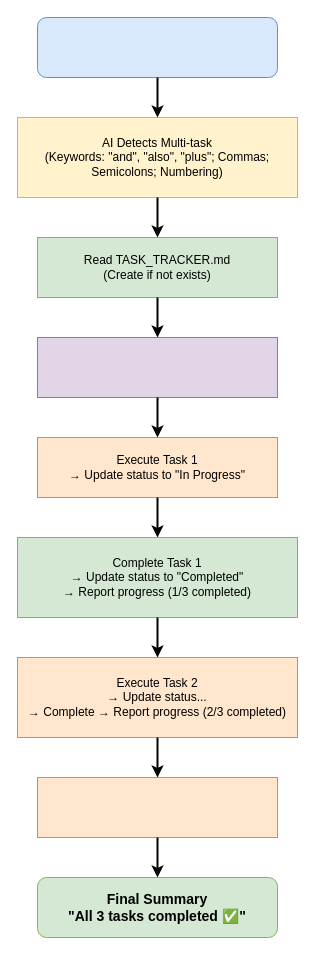
This 315x955 diagram has some shape labels left out. The shapes that lost their labels are listed below. From the top down, each one's box as (x1, y1, x2, y2) in pixels, then its label:
(36, 16, 278, 78): User Input (Contains Multiple Tasks)
(36, 336, 278, 398): Split into Independent Tasks → Update Task Queue
(36, 776, 278, 838): Execute Task 3 → Complete
